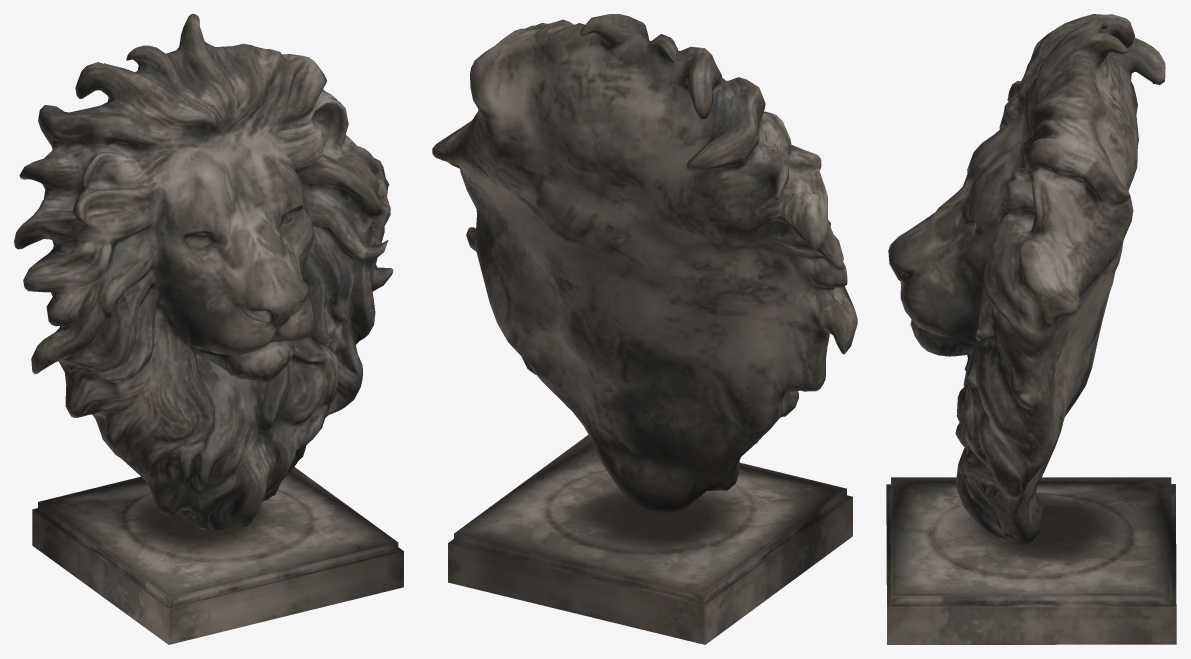
The model's file is lion_head.glb.
The picture shows the model from 3 angles, left to right: view 1: azimuth 30°, elevation 25°; view 2: azimuth 150°, elevation 25°; view 3: azimuth 270°, elevation 25°; orthographic projection. The views are drawn at different scales.
Visible parts, largest first — view 1: lion_head; view 2: lion_head; view 3: lion_head.
Part boxes in pixels (left/top/right/bottom): lion_head: left=14, top=14, right=403, bottom=644; lion_head: left=432, top=14, right=857, bottom=644; lion_head: left=886, top=14, right=1176, bottom=644.
Bounding box in the file's own units: 0.3208 × 0.4358 × 0.2066.
Materials: 1 (1 with a texture image).
